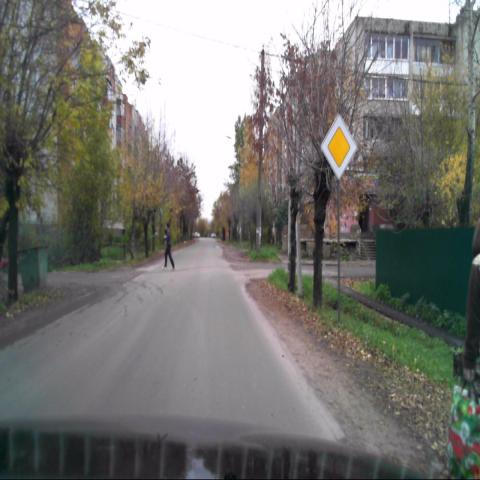2_1: (320, 114, 357, 181)
